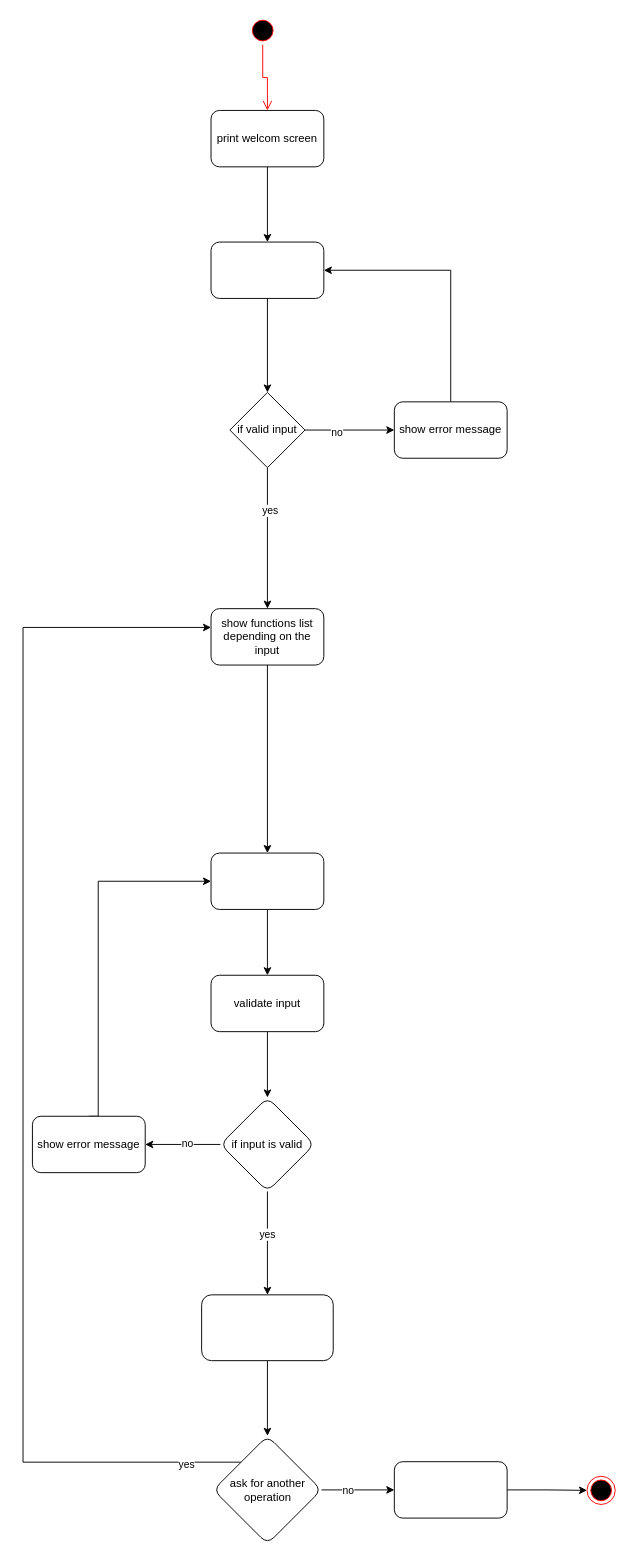
This 632x1560 diagram has some shape labels left out. Here are the shapes that lost their labels. From the top down, the centre of each, then its label:
At point 267,269: "print which role you want to be admin/user".
At point 267,880: "take input operation from the user".
At point 267,1327: "perform selected action and go into its flow".
At point 450,1489: "exit the program".
